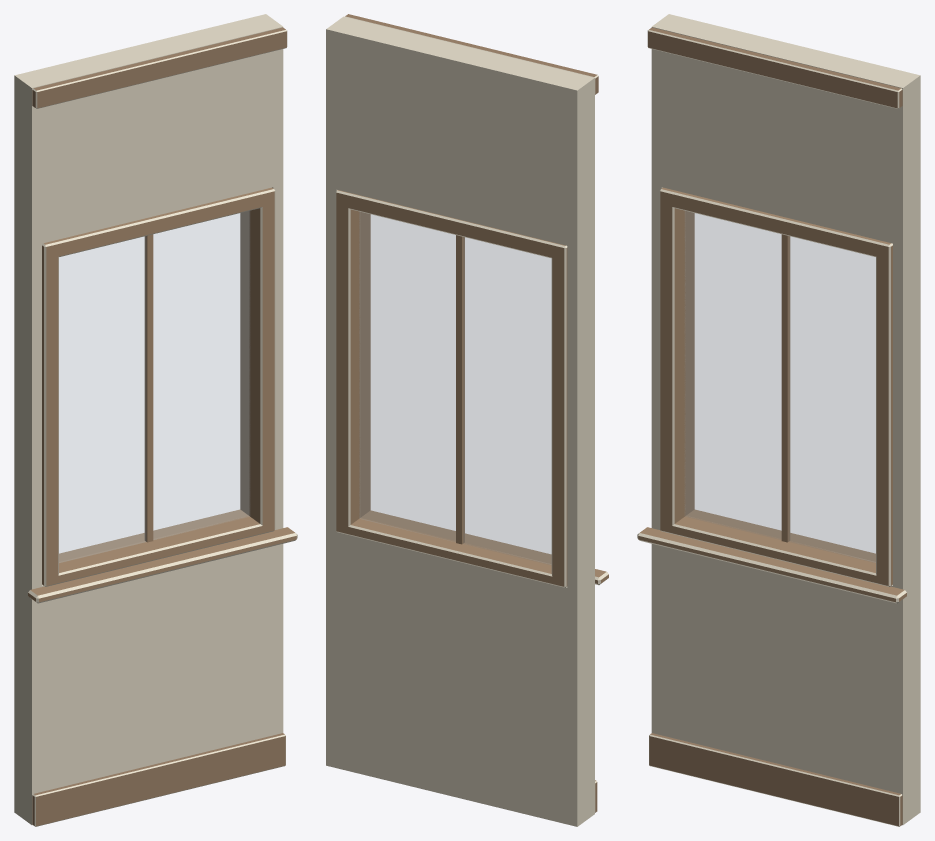
The model's file is muro_ventana_280.glb.
The picture shows the model from 3 angles, left to right: view 1: azimuth 30°, elevation 25°; view 2: azimuth 150°, elevation 25°; view 3: azimuth 330°, elevation 25°; orthographic projection.
Visible parts, largest first — view 1: muro_ventana_280; view 2: muro_ventana_280; view 3: muro_ventana_280.
Part boxes in pixels (bbox=[...]): muro_ventana_280: bbox=[14, 14, 297, 826]; muro_ventana_280: bbox=[326, 14, 608, 826]; muro_ventana_280: bbox=[637, 14, 920, 826].
Bounding box in the file's own units: 1.04 × 2.8 × 0.2.
